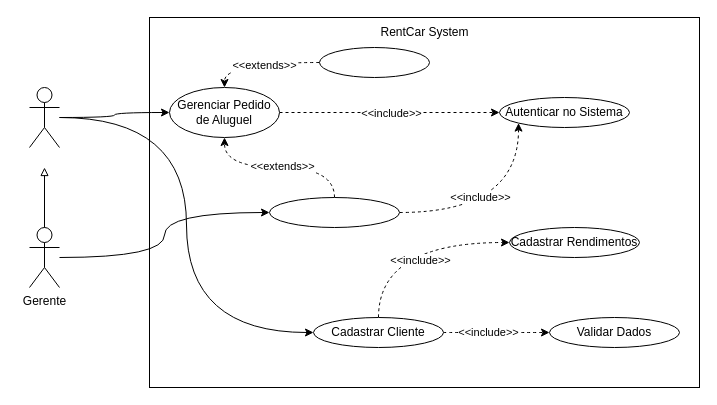
Some shapes in this 717 by 405 pixel diagram are drawn without their labels. The shapes that lost their labels are listed below. From the top down, each one's box as (x1, y1, x2, y2) in pixels, then its label:
(318, 46, 430, 78): cancelar pedido
(28, 86, 60, 148): Atendente
(268, 196, 400, 228): Aprovar contrato
